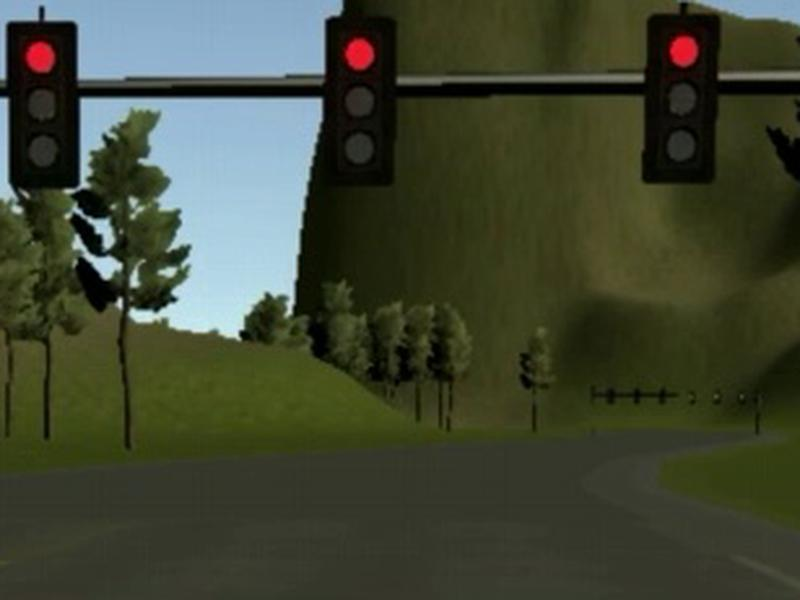Red: (642, 15, 724, 183), (9, 23, 81, 189), (326, 16, 396, 186)
